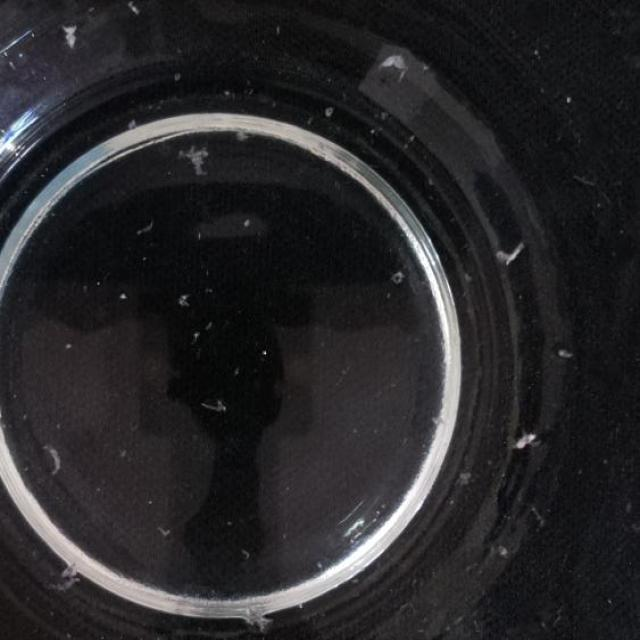fiber: (238, 599, 273, 635), (53, 563, 88, 596), (380, 55, 414, 85), (41, 438, 62, 474), (201, 394, 230, 419), (498, 242, 528, 266), (185, 145, 208, 171), (517, 429, 540, 452), (63, 26, 79, 48), (175, 293, 192, 312), (133, 223, 156, 237), (455, 470, 475, 485), (321, 102, 338, 119), (157, 521, 171, 541), (236, 126, 250, 146), (392, 269, 407, 286), (557, 343, 572, 360), (124, 2, 142, 16), (239, 546, 254, 558), (128, 119, 142, 131), (118, 446, 130, 459), (259, 347, 273, 358), (192, 324, 201, 340), (172, 70, 180, 84), (63, 341, 73, 350), (119, 292, 128, 302), (242, 216, 250, 227), (222, 86, 228, 98), (565, 96, 570, 110)
